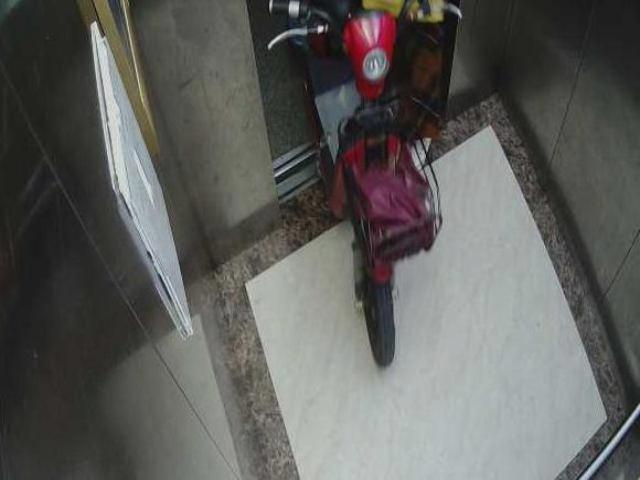emotor: (252, 1, 444, 367)
